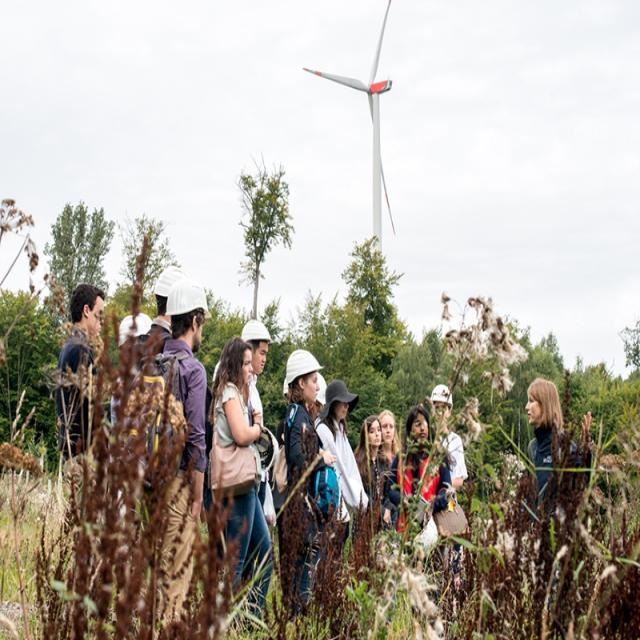body: (115, 270, 210, 639), (208, 335, 274, 634), (283, 345, 339, 619), (384, 404, 458, 610), (107, 310, 155, 616), (312, 377, 372, 562), (522, 375, 594, 527), (54, 282, 108, 479), (268, 348, 334, 507), (430, 383, 470, 627), (238, 316, 272, 602), (130, 261, 186, 373), (349, 414, 394, 545), (378, 406, 400, 488)
